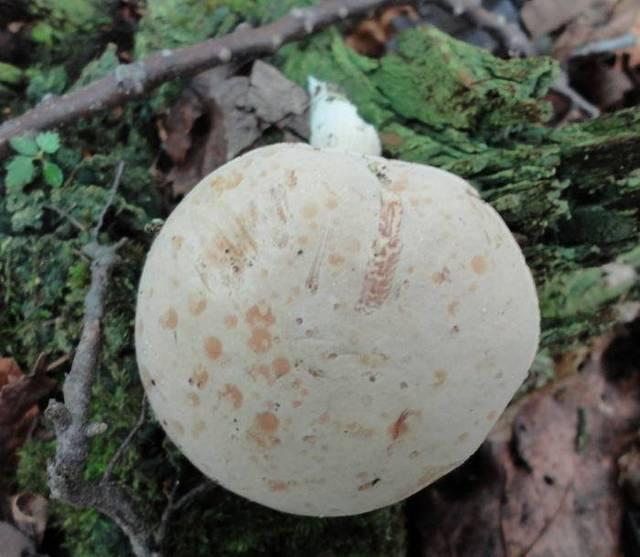edible_mushroom: (132, 77, 542, 518)
